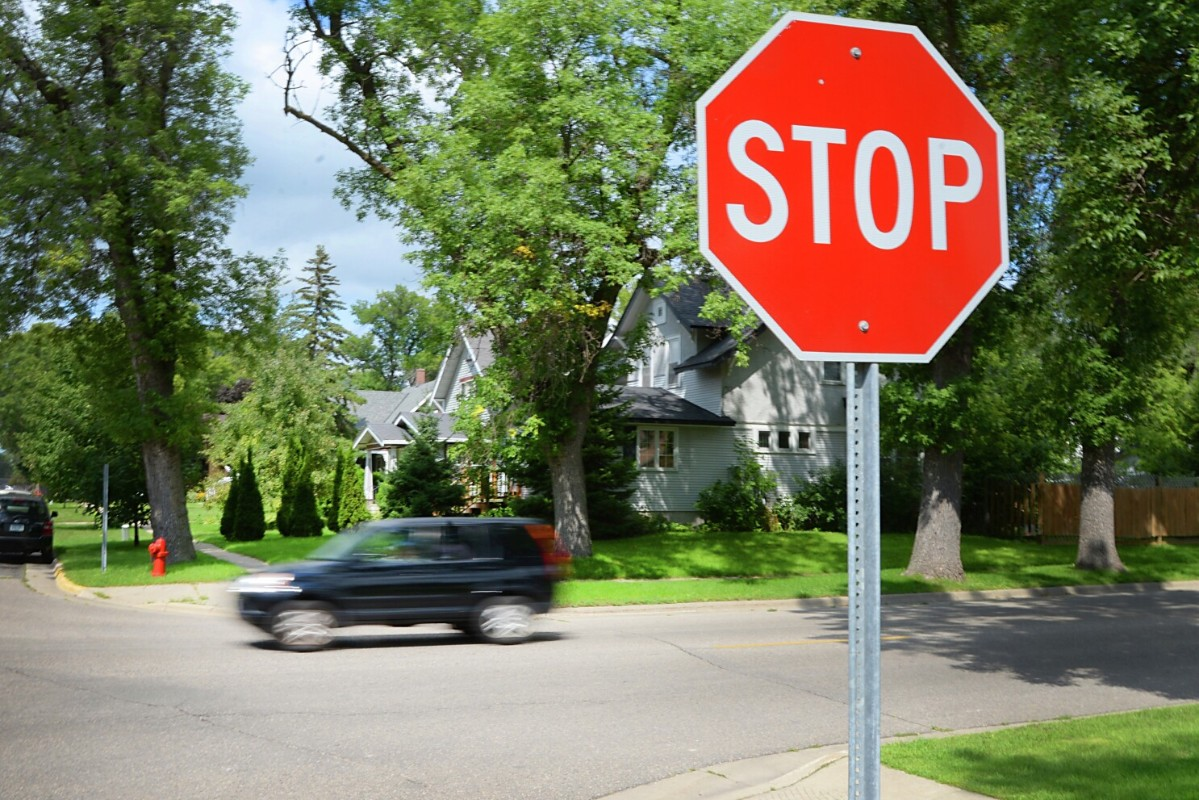stop: (693, 11, 1012, 378)
